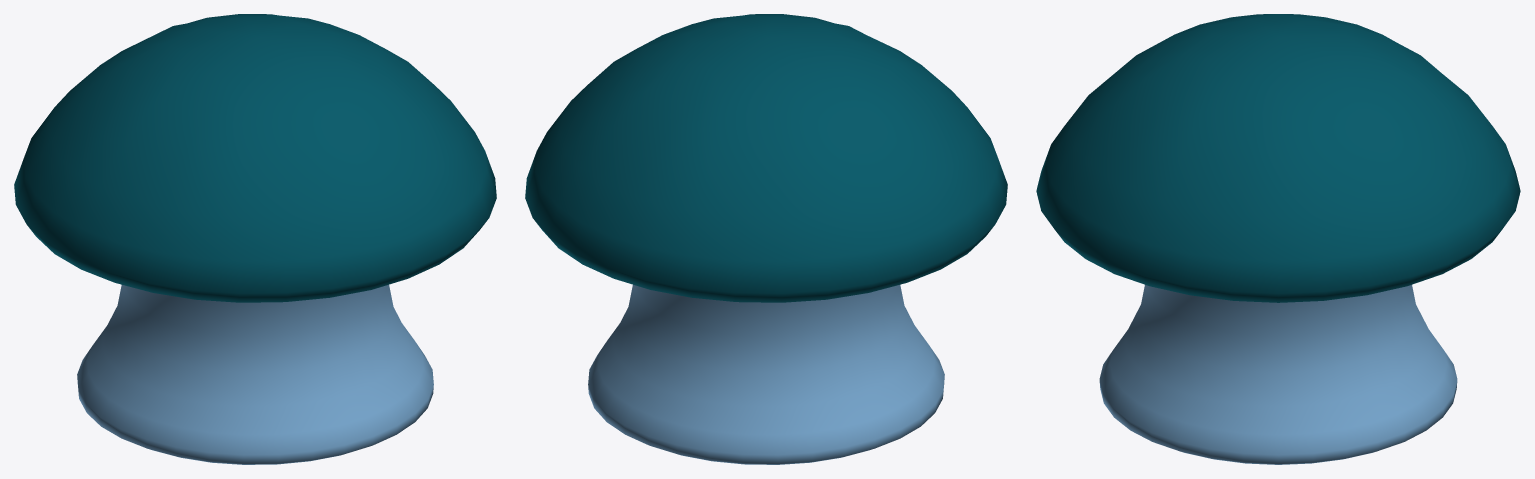
Rendered from Mushroom magic.fbx.
The picture shows the model from 3 angles, left to right: view 1: azimuth 30°, elevation 25°; view 2: azimuth 150°, elevation 25°; view 3: azimuth 270°, elevation 25°; orthographic projection.
Visible parts, largest first — view 1: Cube.004; view 2: Cube.004; view 3: Cube.004.
Part boxes in pixels (x1,y1,x2,y2): Cube.004: [14, 14, 496, 464]; Cube.004: [525, 14, 1007, 464]; Cube.004: [1036, 14, 1520, 464].
Bounding box in the file's own units: 457 × 374 × 457.
